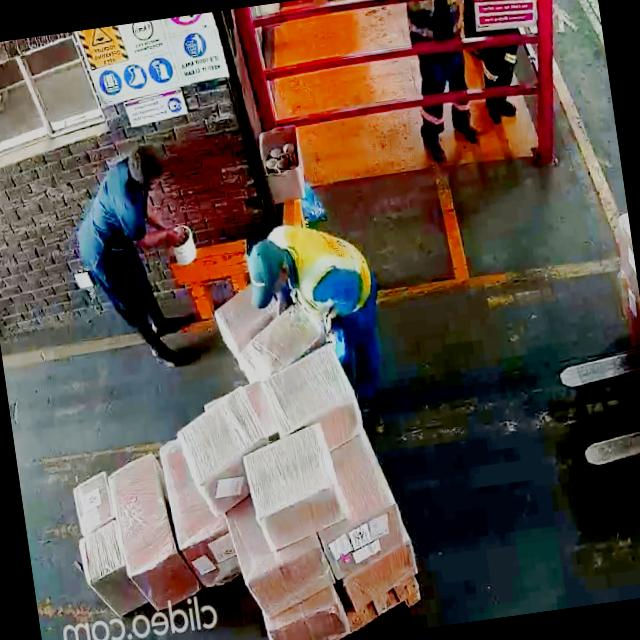Box: (235, 422, 345, 552), (114, 456, 186, 604), (262, 336, 364, 439), (177, 386, 266, 486), (245, 539, 334, 616), (321, 496, 408, 572), (340, 538, 422, 607), (81, 520, 136, 622), (64, 464, 118, 534), (268, 595, 346, 640)
